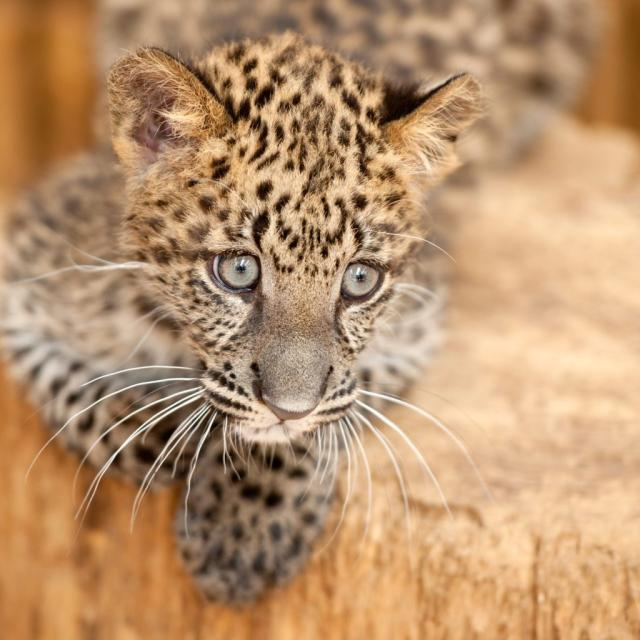Leopard: (8, 4, 461, 574)
